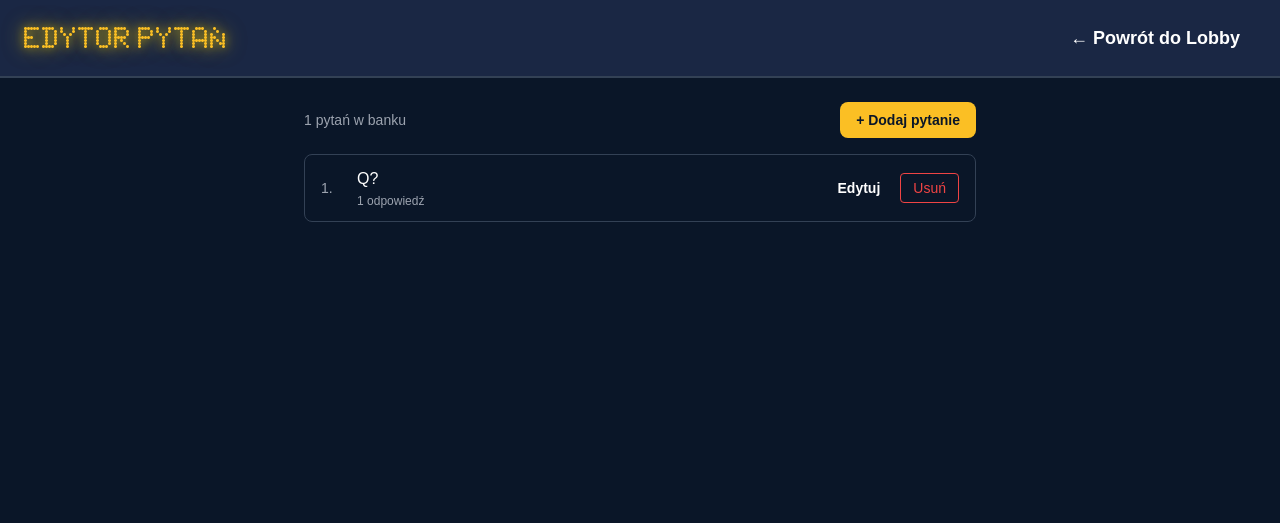
Test: QuestionEditorScreen › should switch to form view when Dodaj pytanie is clicked
Click the button "+ Dodaj pytanie".
click(908, 120)  # box 840,102 -> 976,138
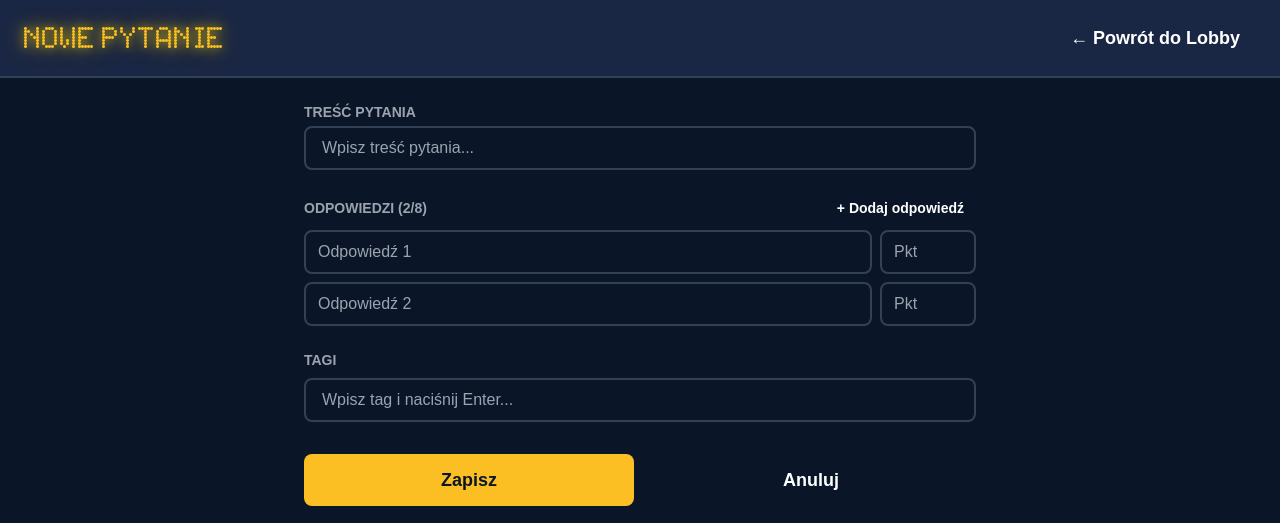
Check: the heading "Nowe pytanie" is shown, box 24,22 -> 225,54
